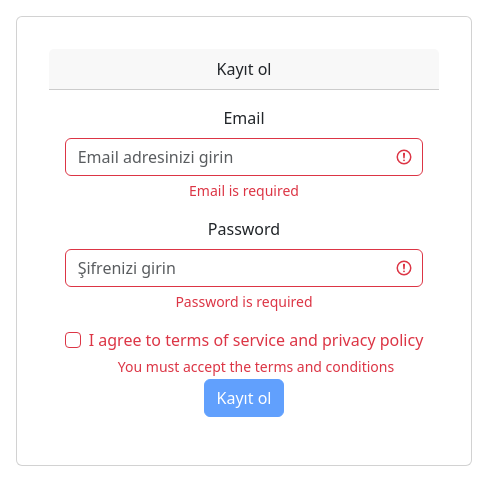
Scenario: Login Form › email ve password yanlis girilmis
In the field with test id "email-input": (245, 157) [65, 138, 424, 176], type "invalid-email"
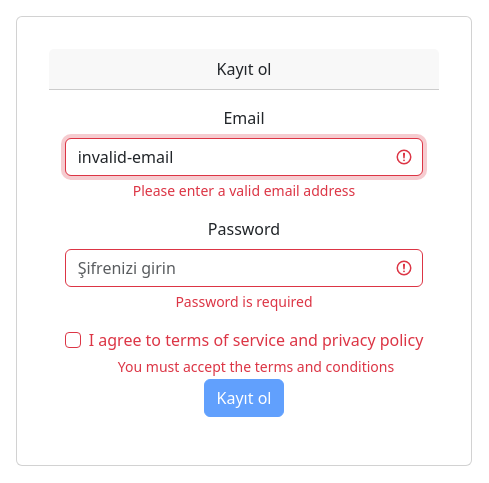
In the password field with test id "password-input": (245, 268) [65, 249, 424, 287], type "abc"
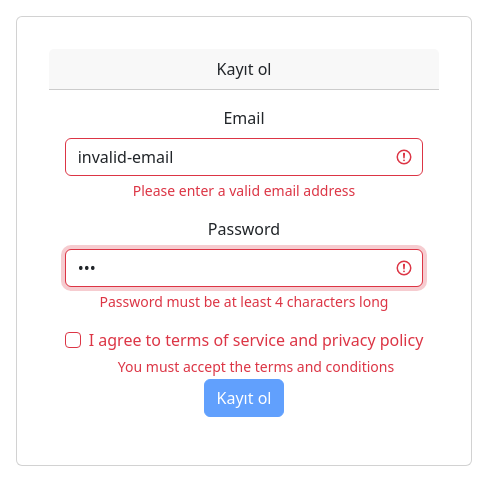
Check the checkbox with test id "terms-checkbox": (73, 340) [65, 332, 81, 348]
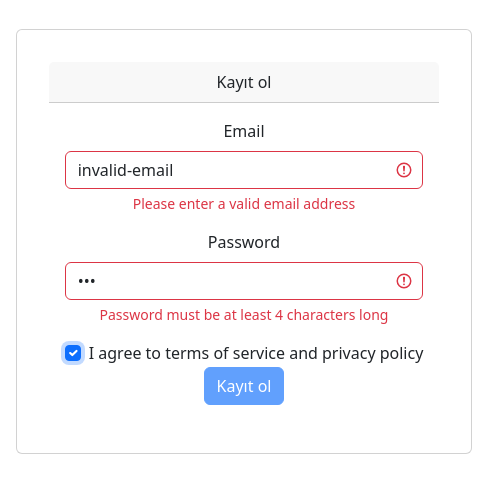
Expected: the text with test id "error-message" reads "Please enter a valid email address", [133, 194, 356, 213]
Expected: the text with test id "error-message" reads "Password must be at least 4 characters long", [100, 305, 389, 324]
Expected: the number of elements with test id "error-message" is 2, [133, 194, 355, 212]; [100, 304, 388, 324]
